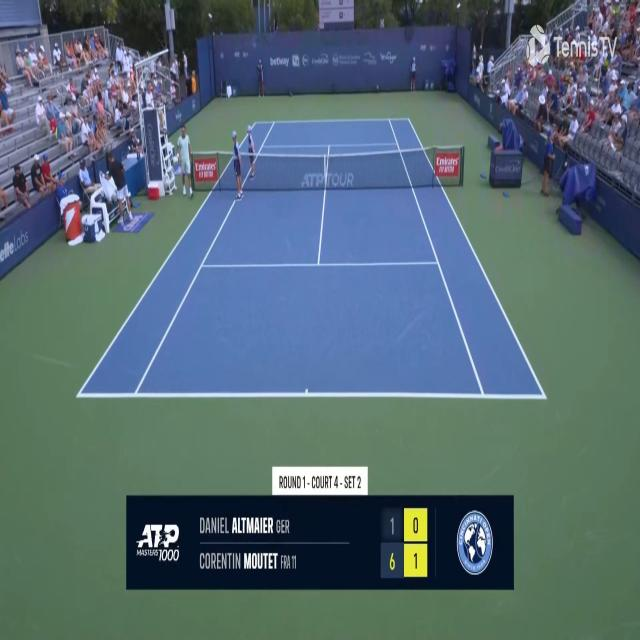tennis-player: (178, 120, 197, 201)
